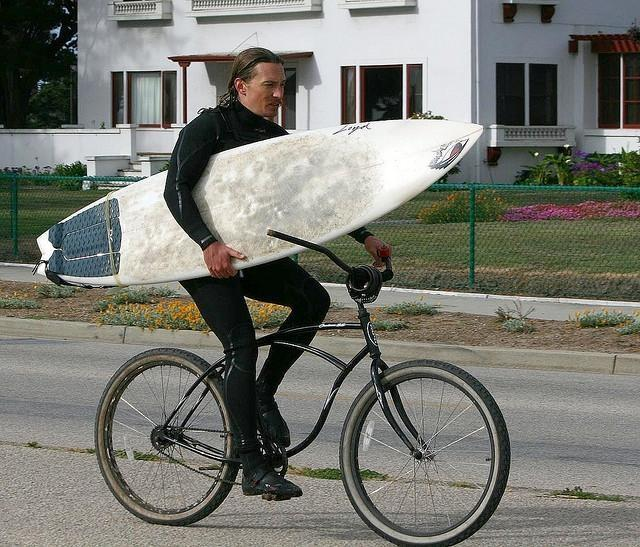bicycle: (92, 226, 510, 547)
